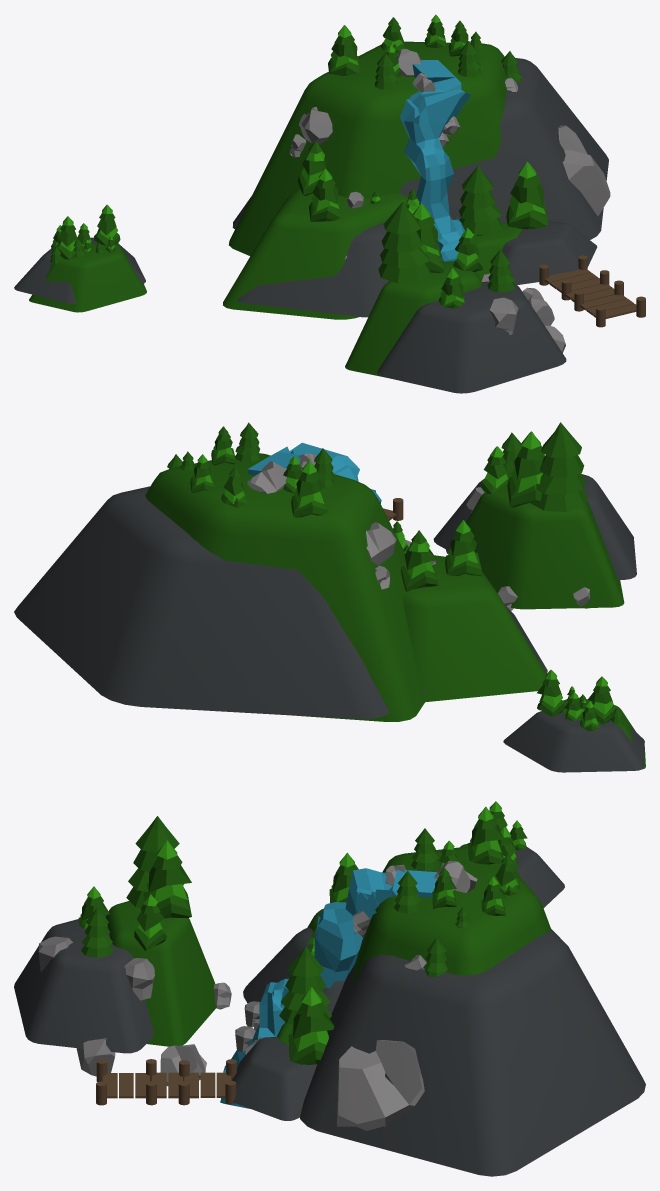
The model's file is Island4.glb.
3 renders of one model, top to bottom at view 1: azimuth 30°, elevation 25°; view 2: azimuth 150°, elevation 25°; view 3: azimuth 270°, elevation 25°, orthographic. The views are drawn at different scales.
Parts seen in each view (by area): view 1: Sand, Land, Cube.010, Low poly tree.007, menhir_mini.014, Low poly tree.003, menhir_mini.013, Low poly tree.008, menhir_mini.015, Circle.057, Low poly tree, Low poly tree.001 (+2 smaller); view 2: Land, Sand, Low poly tree.007, Cube.010, menhir_mini.013, menhir_mini.010, Low poly tree.001, Circle.092, Circle.029, Low poly tree, Circle.034, Circle.010 (+1 smaller); view 3: Land, Sand, Cube.010, menhir_mini.014, Low poly tree.003, Low poly tree.007, Low poly tree.008, menhir_mini.012, menhir_mini, menhir_mini.016, Low poly tree, Low poly tree.001 (+7 smaller).
Part boxes in pixels (bbox=[...]): Sand: bbox=[29, 41, 521, 376]; Land: bbox=[14, 58, 608, 393]; Cube.010: bbox=[400, 60, 470, 261]; Low poly tree.007: bbox=[378, 201, 430, 283]; menhir_mini.014: bbox=[558, 125, 610, 216]; Low poly tree.003: bbox=[459, 165, 502, 235]; menhir_mini.013: bbox=[299, 107, 332, 144]; Low poly tree.008: bbox=[487, 249, 515, 292]; menhir_mini.015: bbox=[489, 297, 518, 334]; Circle.057: bbox=[506, 202, 548, 229]; Low poly tree: bbox=[374, 53, 398, 89]; Low poly tree.001: bbox=[458, 41, 481, 77]; Land: bbox=[14, 474, 644, 772]; Sand: bbox=[145, 453, 645, 769]; Low poly tree.007: bbox=[530, 422, 587, 511]; Cube.010: bbox=[247, 442, 381, 503]; menhir_mini.013: bbox=[366, 522, 396, 565]; menhir_mini.010: bbox=[247, 461, 287, 493]; Low poly tree.001: bbox=[235, 422, 260, 462]; Circle.092: bbox=[507, 476, 541, 507]; Circle.029: bbox=[401, 566, 438, 592]; Low poly tree: bbox=[314, 448, 335, 488]; Circle.034: bbox=[445, 552, 482, 576]; Circle.010: bbox=[291, 492, 327, 517]; Land: bbox=[14, 846, 645, 1176]; Sand: bbox=[106, 843, 551, 1046]; Cube.010: bbox=[220, 868, 437, 1108]; menhir_mini.014: bbox=[337, 1040, 424, 1130]; Low poly tree.003: bbox=[279, 946, 331, 1024]; Low poly tree.007: bbox=[126, 816, 188, 907]; Low poly tree.008: bbox=[81, 907, 113, 957]; menhir_mini.012: bbox=[160, 1044, 206, 1086]; menhir_mini: bbox=[124, 958, 155, 1000]; menhir_mini.016: bbox=[76, 1038, 115, 1076]; Low poly tree: bbox=[411, 828, 438, 870]; Low poly tree.001: bbox=[393, 871, 421, 913].
Bounding box in the file's own units: 24.6 × 10.4 × 20.35.
Materials: 9 (2 with a texture image).
